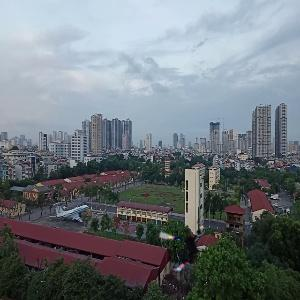drone: (156, 217, 214, 275)
